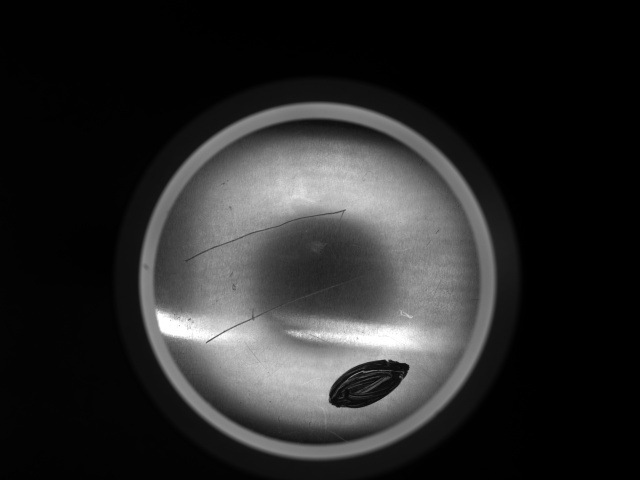ca_shang: (195, 265, 390, 348), (182, 207, 349, 266)
zang_wu: (327, 354, 412, 410)
